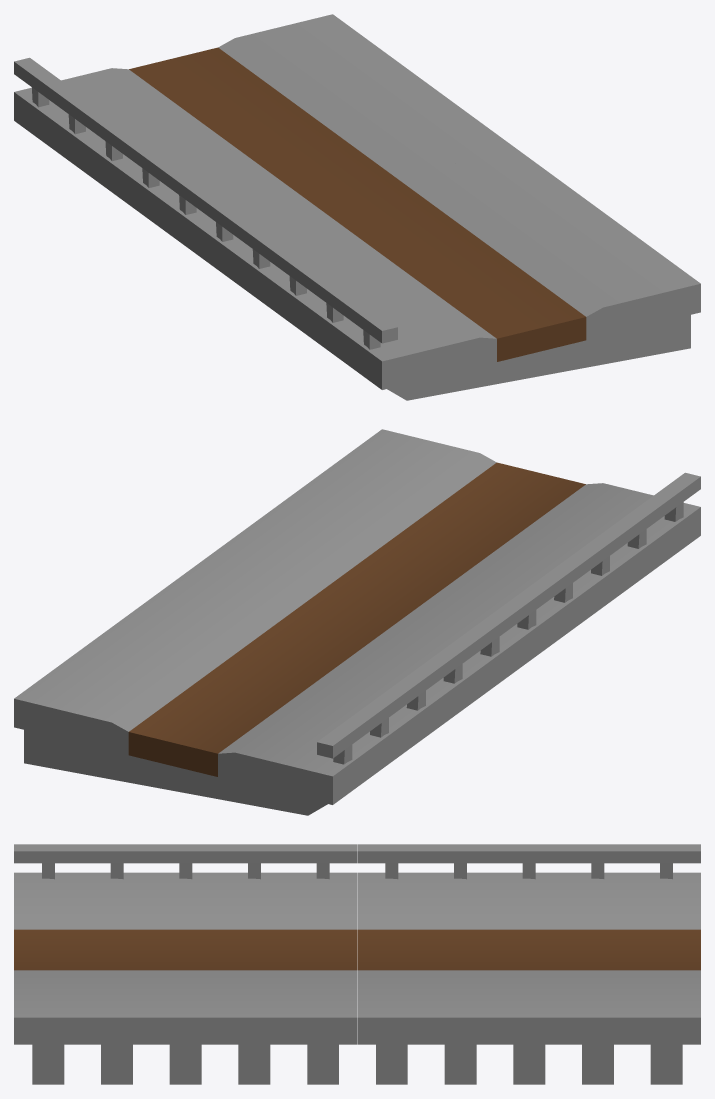
The model's file is BlocLine10.FBX.
3 renders of one model, top to bottom at view 1: azimuth 30°, elevation 25°; view 2: azimuth 150°, elevation 25°; view 3: azimuth 270°, elevation 25°, orthographic. The views are drawn at different scales.
Parts seen in each view (by area): view 1: BlocLine10; view 2: BlocLine10; view 3: BlocLine10.
Boxes of the visible parts, x1,y1,x2,y2 form: BlocLine10: (14,14,700,400); BlocLine10: (14,429,700,815); BlocLine10: (14,844,700,1084).
Bounding box in the file's own units: 5 × 1.53 × 10.
